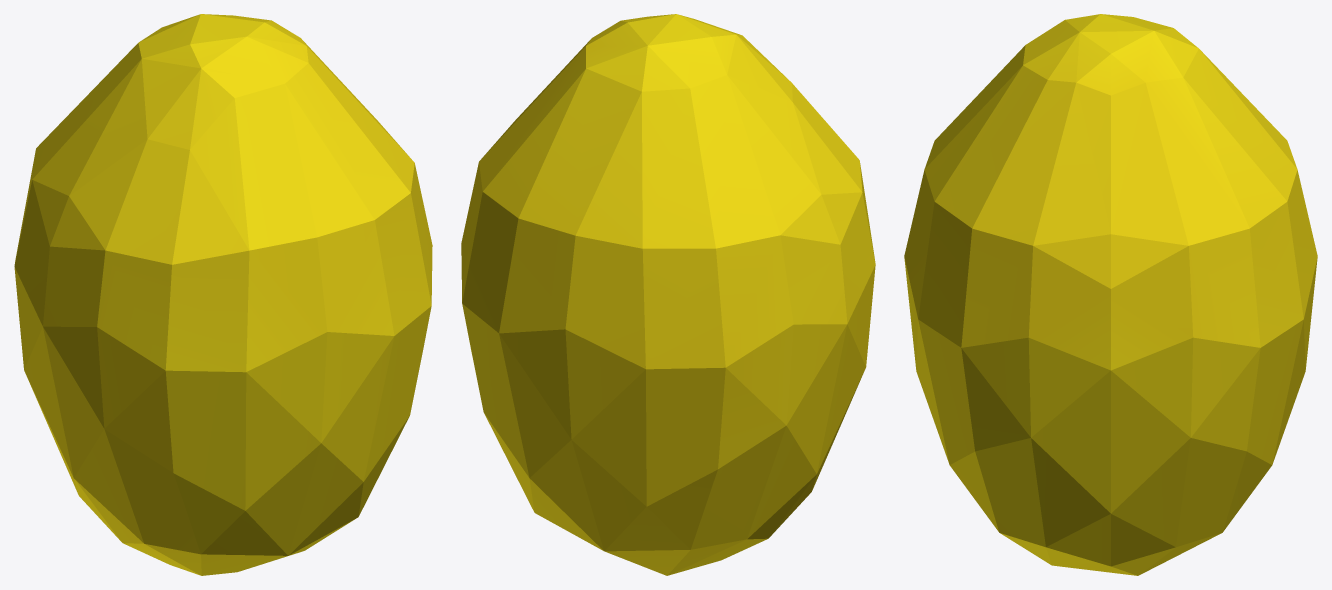
Rendered from lEMON.fbx.
3 renders of one model, left to right at view 1: azimuth 30°, elevation 25°; view 2: azimuth 150°, elevation 25°; view 3: azimuth 270°, elevation 25°, orthographic.
Visible parts, largest first — view 1: Cube.031; view 2: Cube.031; view 3: Cube.031.
Boxes of the visible parts, x1,y1,x2,y2 form: Cube.031: (14, 14, 432, 575); Cube.031: (461, 14, 875, 575); Cube.031: (904, 14, 1317, 575).
Size of the model in its own units: 16.01 by 22.66 by 15.96.
